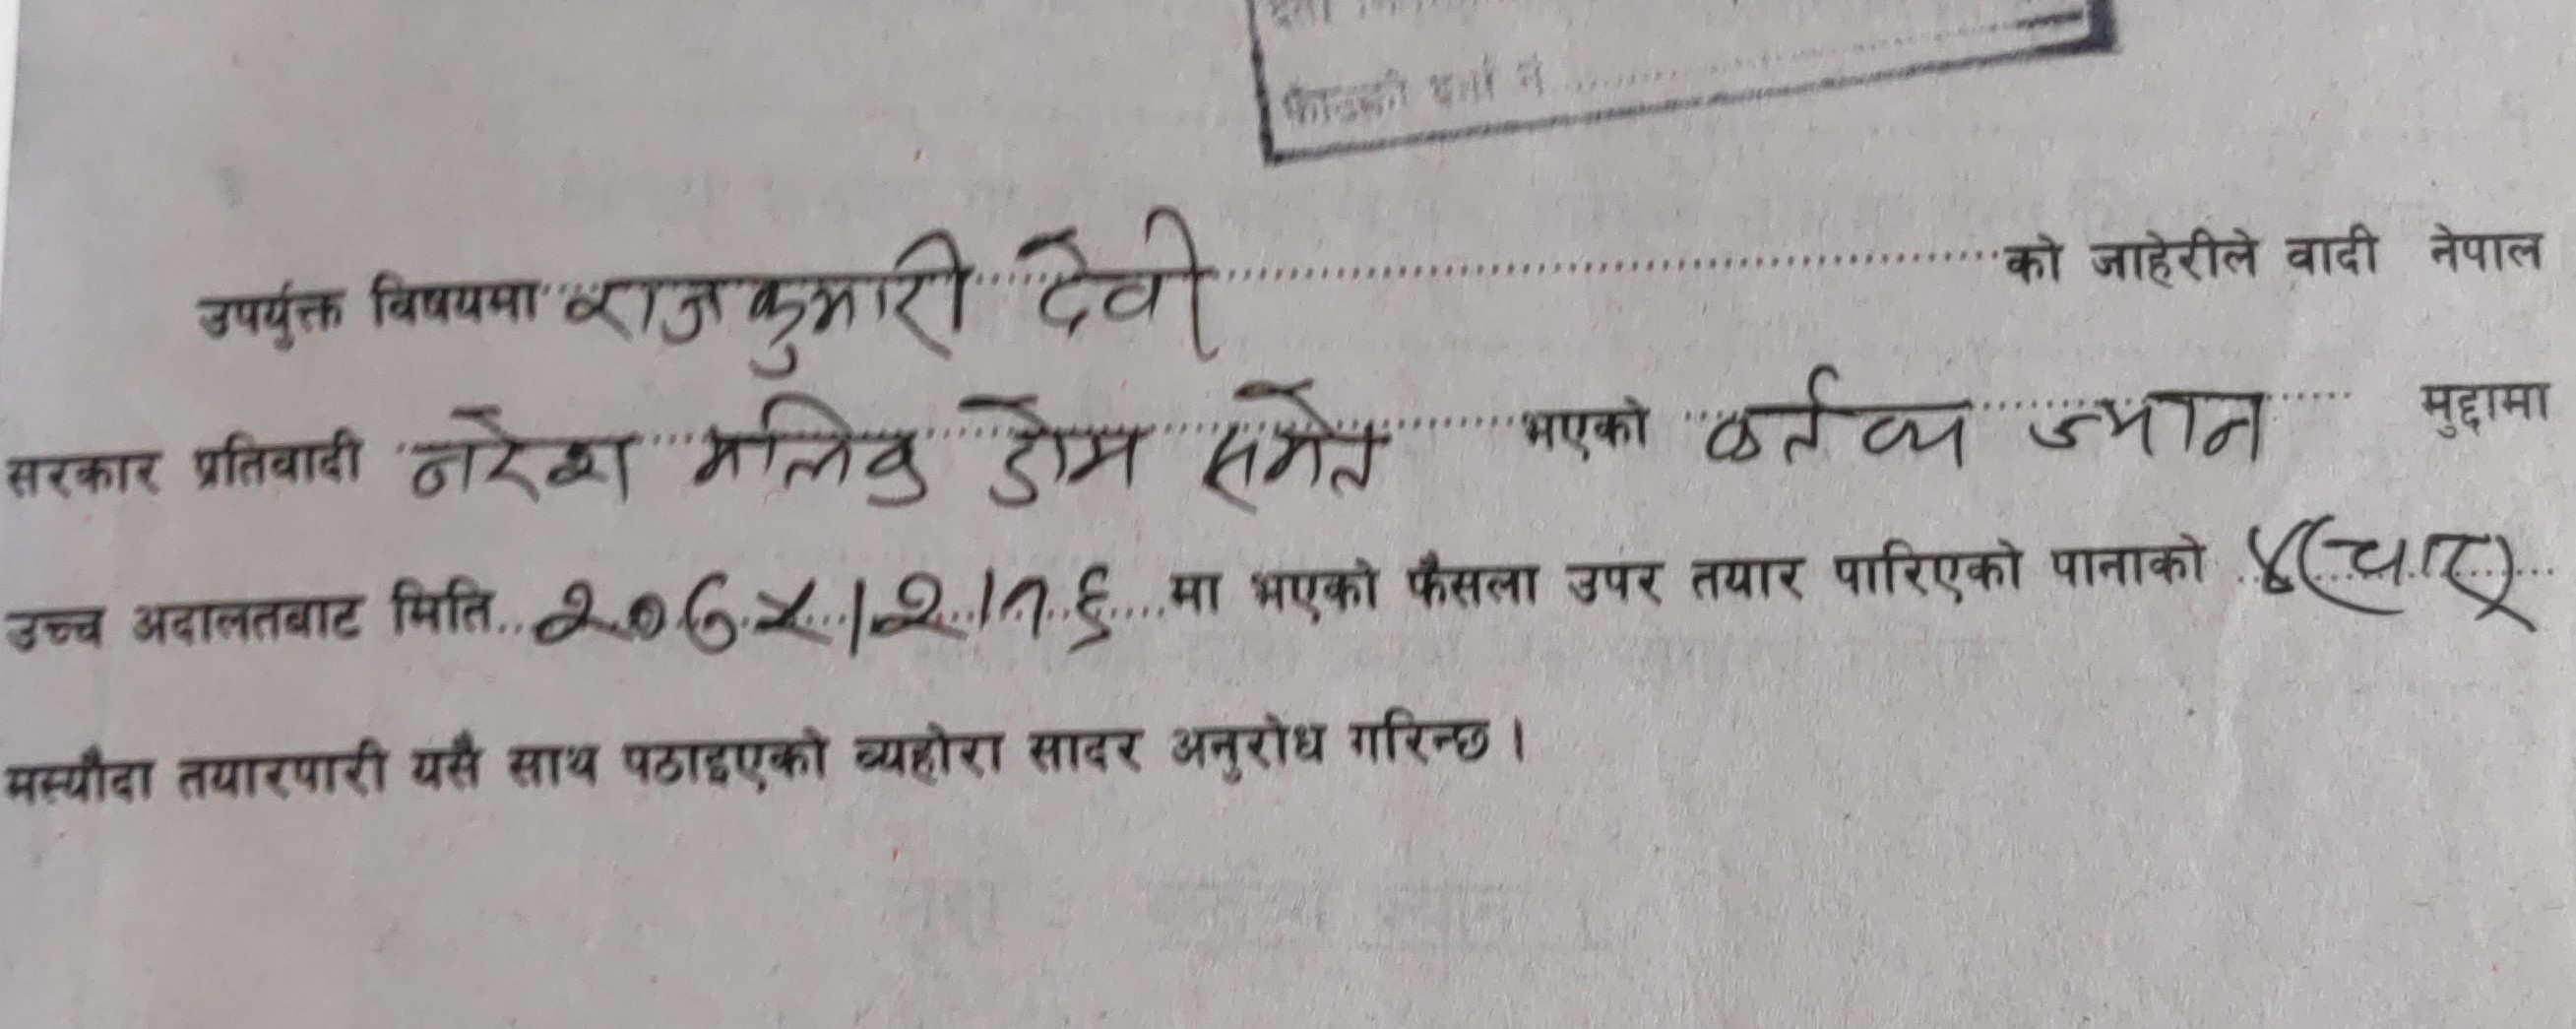text: (529, 539, 1137, 667), (555, 215, 974, 386), (1014, 205, 1232, 365), (1689, 355, 1971, 478), (685, 383, 940, 519), (396, 403, 647, 514), (1199, 375, 1393, 514), (2022, 375, 2285, 473), (977, 386, 1158, 519), (2305, 510, 2505, 628), (2241, 514, 2298, 613)
